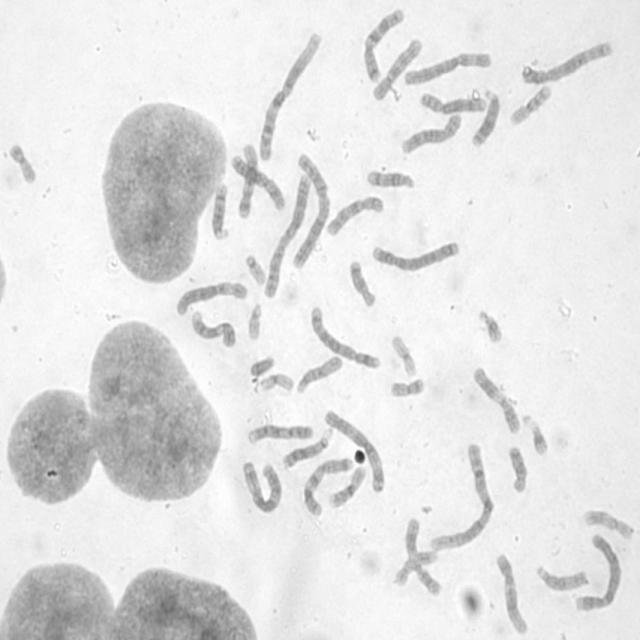A1: (256, 29, 324, 163), (426, 440, 494, 554)
A2: (261, 170, 312, 300), (288, 150, 332, 269)
A3: (321, 407, 386, 496), (239, 457, 282, 514)
B4: (572, 529, 622, 614), (368, 238, 461, 274)
B5: (308, 302, 382, 371), (518, 38, 614, 86)
C10: (370, 36, 422, 101), (324, 192, 384, 238)
C11: (470, 362, 523, 437), (402, 514, 444, 597)
C12: (494, 550, 530, 636), (235, 140, 259, 219)
C6: (402, 49, 493, 86), (173, 279, 248, 318)
C7: (361, 5, 405, 84), (300, 454, 354, 518)
C8: (398, 111, 462, 156), (418, 90, 487, 114)
C9: (189, 307, 237, 348), (244, 421, 315, 447)
D13: (280, 426, 332, 470), (468, 86, 503, 149)
D14: (209, 180, 231, 241), (364, 169, 416, 190)
D15: (294, 353, 343, 395), (532, 562, 590, 592)
E16: (507, 82, 553, 128), (328, 462, 368, 509)
E17: (581, 506, 634, 540), (392, 548, 437, 588)
E18: (346, 257, 377, 308), (505, 442, 529, 494)
F19: (388, 332, 418, 379), (257, 370, 295, 394)
F20: (6, 140, 38, 184), (388, 375, 426, 399)
G21: (518, 410, 550, 457), (474, 306, 504, 345)
G22: (243, 250, 267, 287), (245, 299, 263, 342)
X: (228, 150, 287, 211)
Y: (247, 354, 276, 378)
